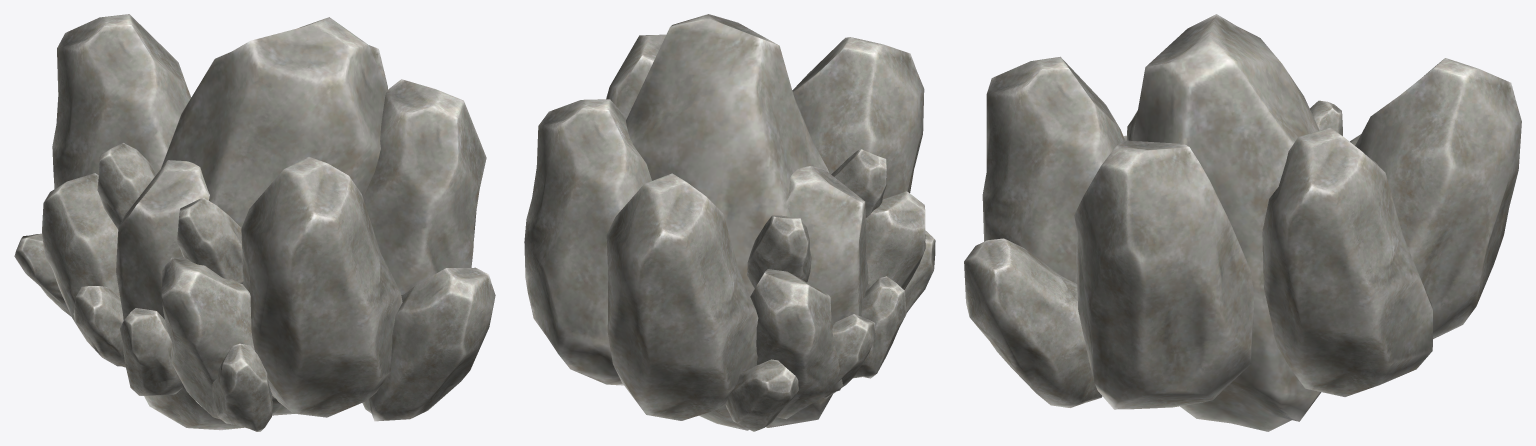
File: Blueite Ore.glb
3 views of the same model, side by side, from view 1: azimuth 30°, elevation 25°; view 2: azimuth 150°, elevation 25°; view 3: azimuth 270°, elevation 25° (orthographic). The views are drawn at different scales.
Visible parts, largest first — view 1: Exported_Mesh_Combined_Mesh; view 2: Exported_Mesh_Combined_Mesh; view 3: Exported_Mesh_Combined_Mesh.
Boxes of the visible parts, left/top/right/bottom form: Exported_Mesh_Combined_Mesh: left=14, top=14, right=495, bottom=431; Exported_Mesh_Combined_Mesh: left=524, top=14, right=935, bottom=431; Exported_Mesh_Combined_Mesh: left=964, top=14, right=1521, bottom=431.
Size of the model in its own units: 3.09 by 3.45 by 4.29.
Materials: 1 (1 with a texture image).
